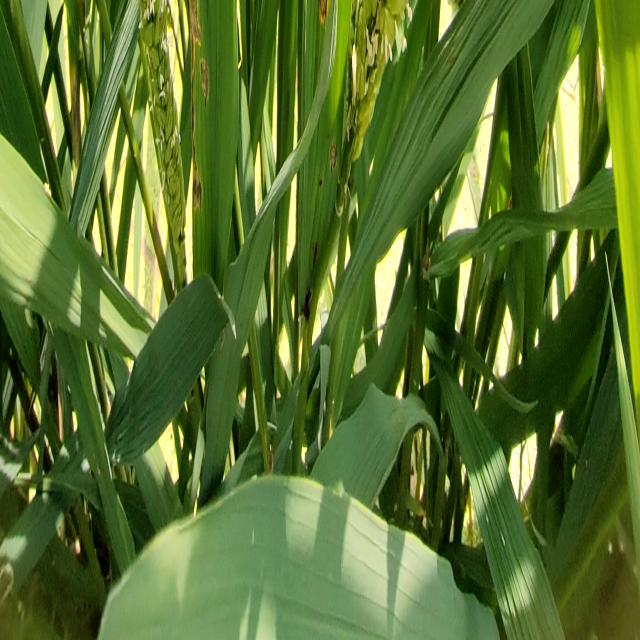LEAF BLAST: (318, 0, 327, 22)
